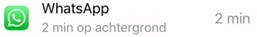name: (36, 1, 117, 17)
time: (38, 21, 75, 37)
